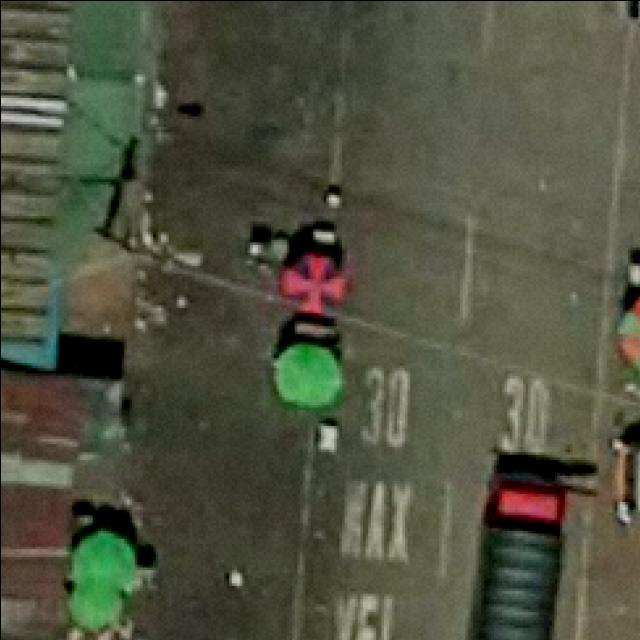vendedor_ambulante: (64, 511, 144, 588), (275, 240, 353, 318), (273, 332, 350, 407), (55, 572, 129, 632), (614, 283, 640, 375)
